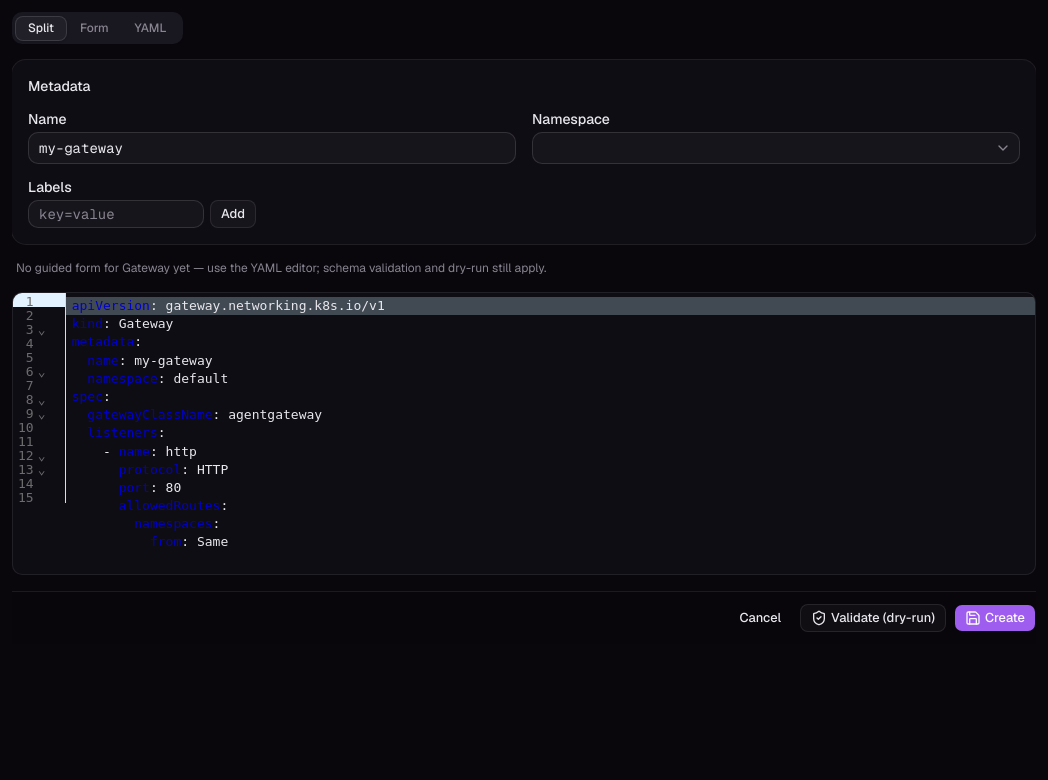
ResourceEditor save › surfaces a save rejection in the validation panel instead of navigating
The image size is (1048, 780).
Click the button "Create" at coordinates (995, 618), box [954, 604, 1036, 632]
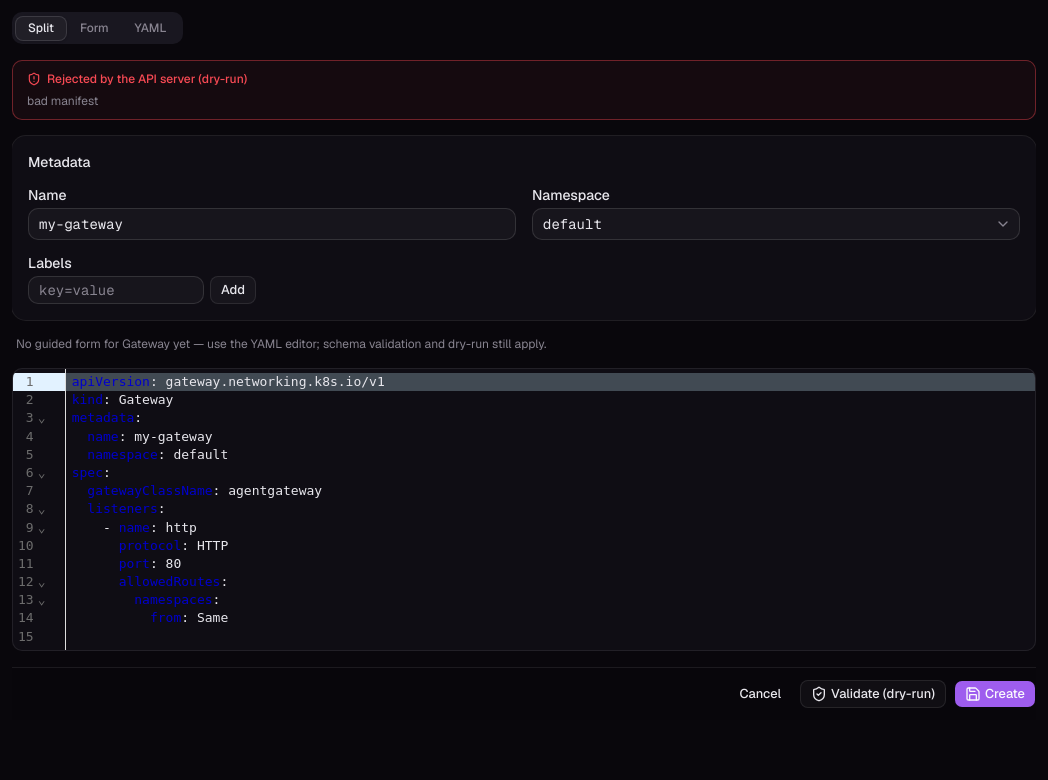
Expected: the text "Rejected by the API server (dry-run)" is shown, [27, 71, 247, 87]
Expected: the text "bad manifest" is shown, [27, 93, 98, 109]
